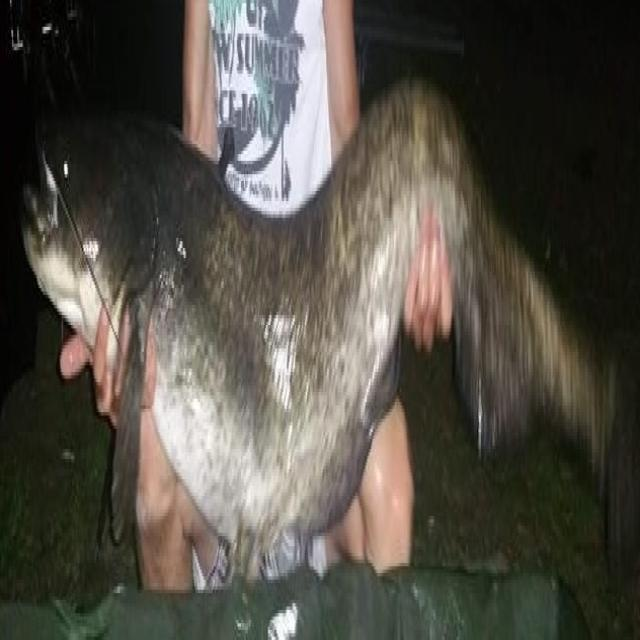Catfish: (22, 60, 637, 627)
